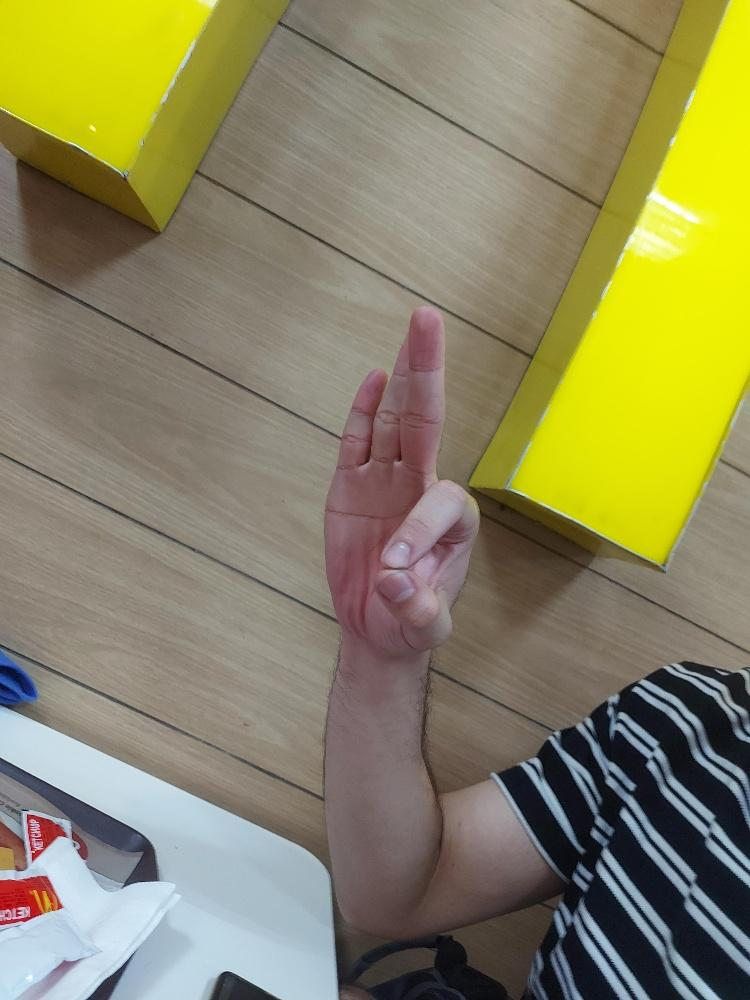f: (317, 301, 483, 665)
